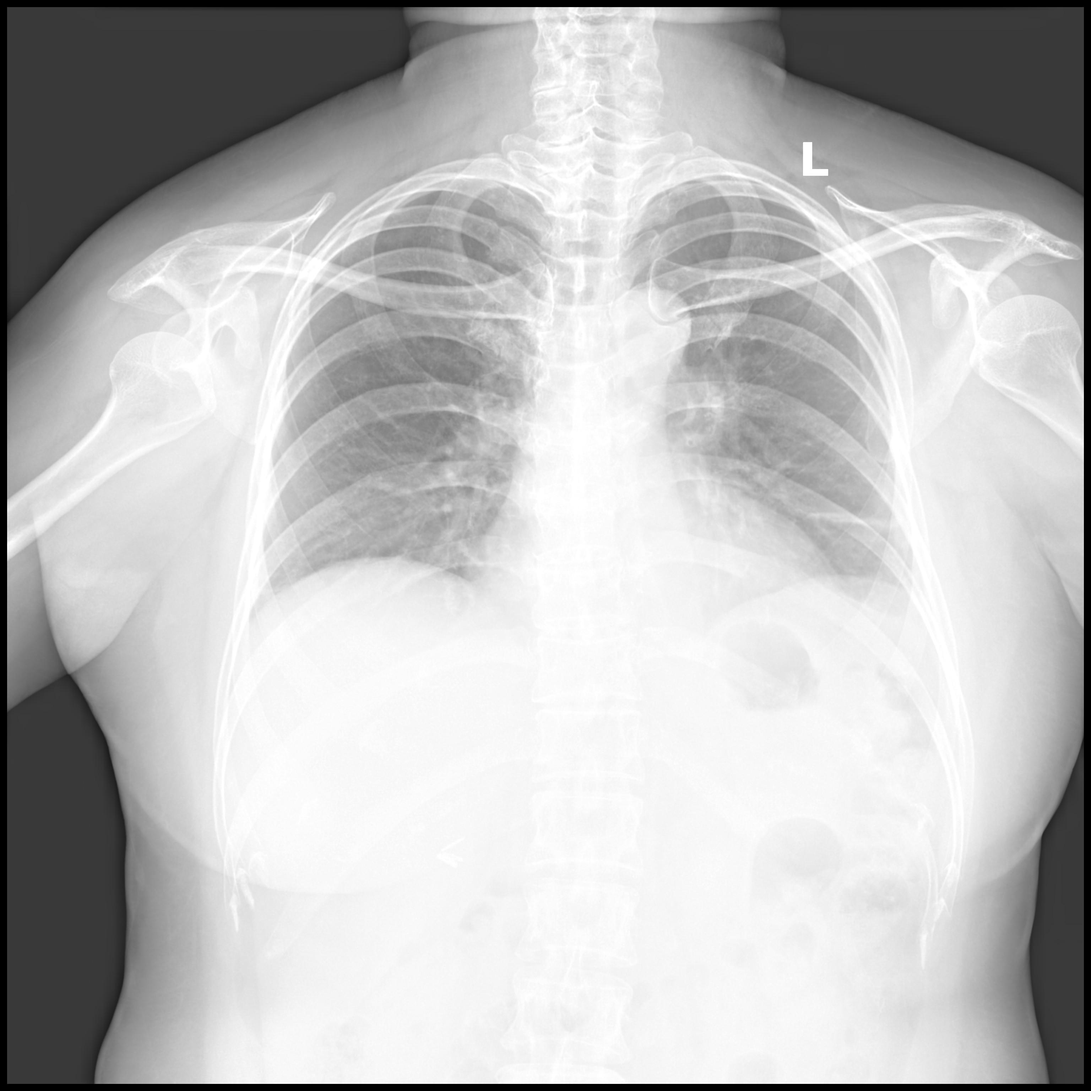Cardiomegaly: (457, 500, 828, 635)
Pulmonary fibrosis: (812, 495, 901, 536)
